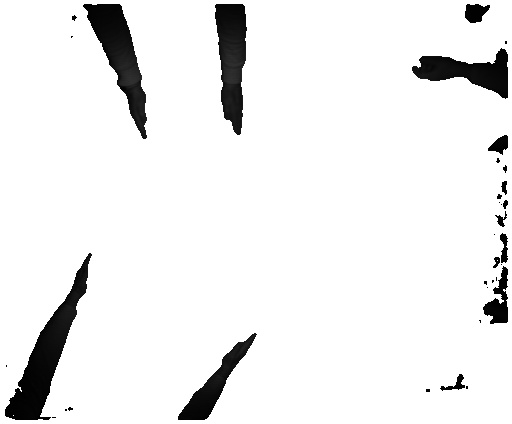hand: (408, 56, 456, 87)
spine: (222, 328, 263, 375), (67, 248, 95, 304), (216, 89, 247, 135), (126, 91, 151, 143)
